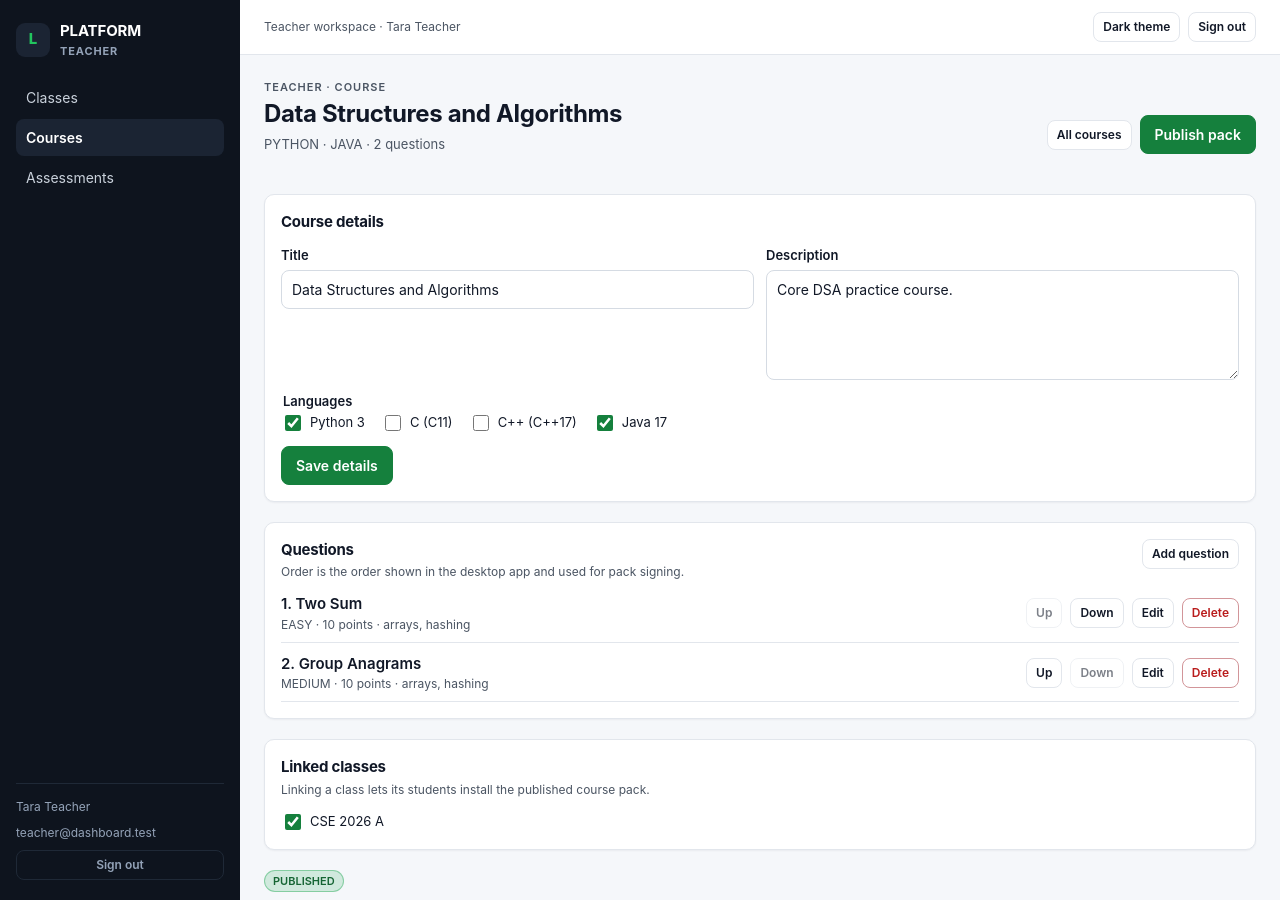
Test: publish errors › shows the code and message of a 409 assessment publish
Expected: the heading "Data Structures and Algorithms" is shown, x1=264 y1=96 x2=622 y2=132
Click the button "Publish pack" at (1198, 134), box x1=1140 y1=115 x2=1256 y2=154
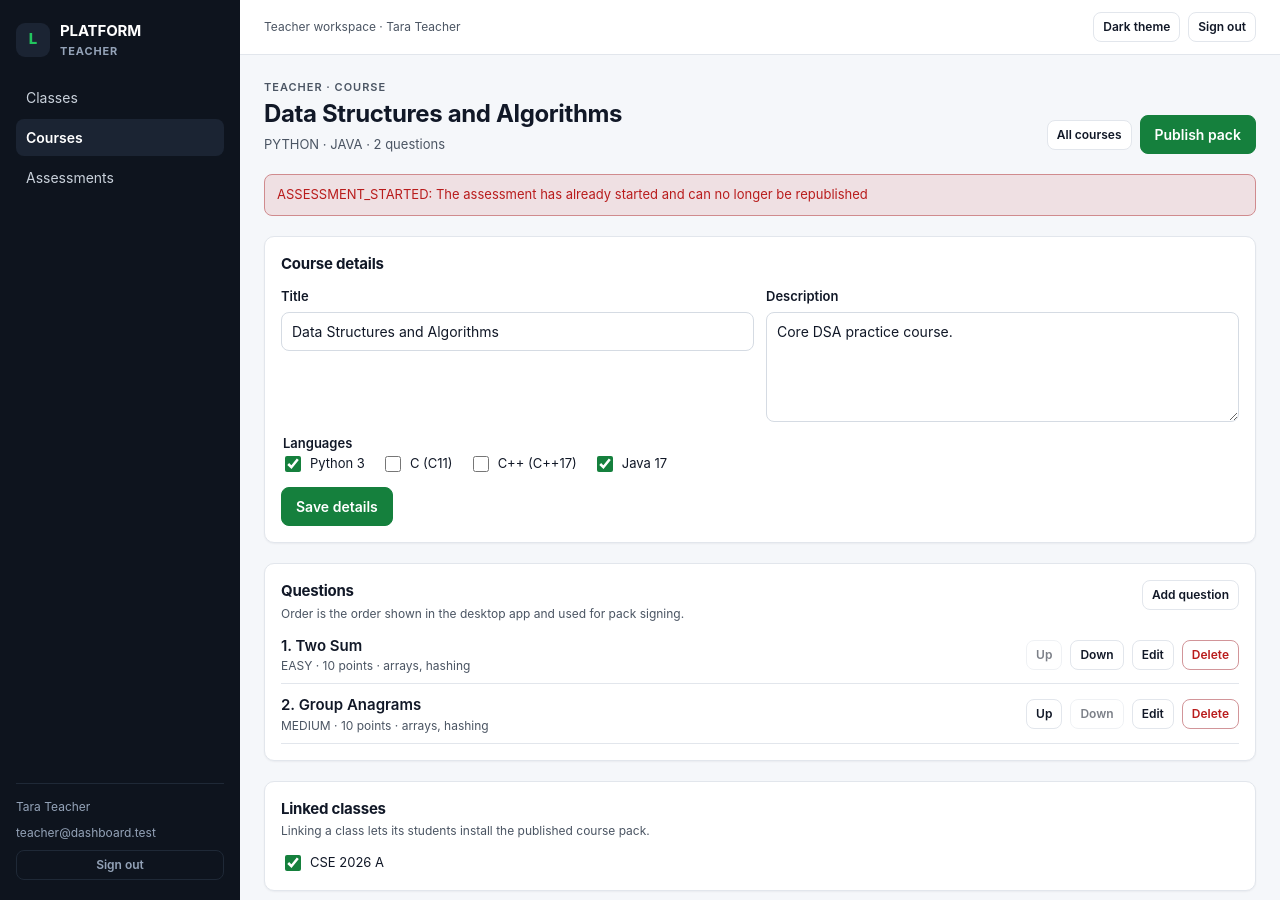
Expected: the text "ASSESSMENT_STARTED" is shown, x1=277 y1=186 x2=868 y2=202
